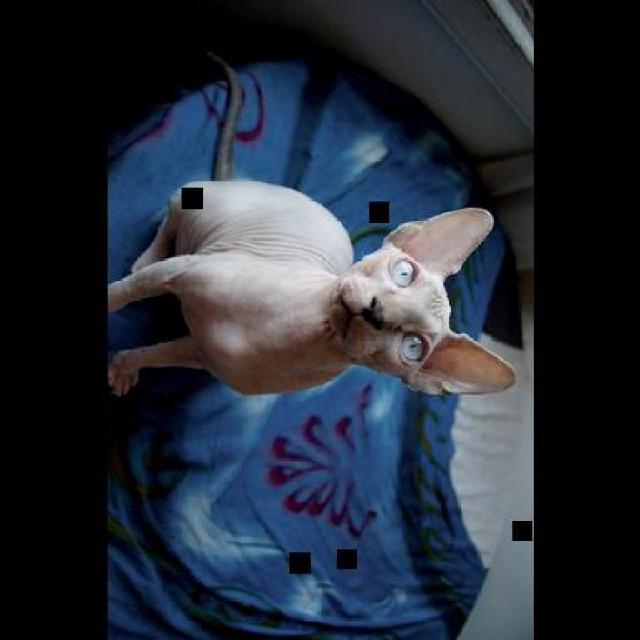unauthorized: (106, 175, 517, 398)
